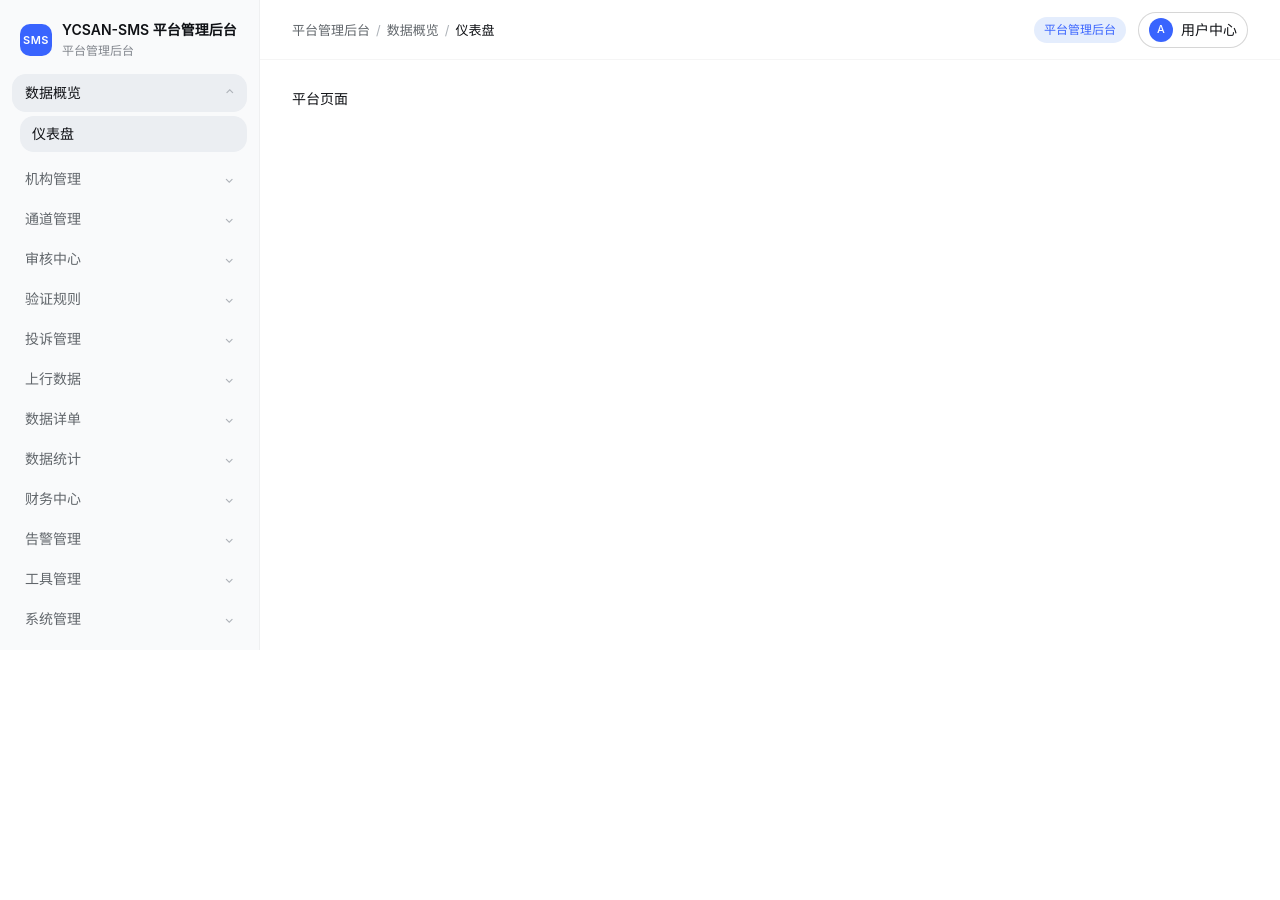
Scenario: AppShell shared console frame (issue #108) › keeps the session commands inside the topbar user center
This screenshot has width=1280, height=900.
Expected: the header with test id "shared-console-identity-user-center-trigger" is shown, [260,0,1279,60]
What coordinates should you click on to do the following:
click the button with test id "shared-console-identity-user-center-trigger"
I would click on:
 (1193, 30)
Its box is [1138,12,1248,48].
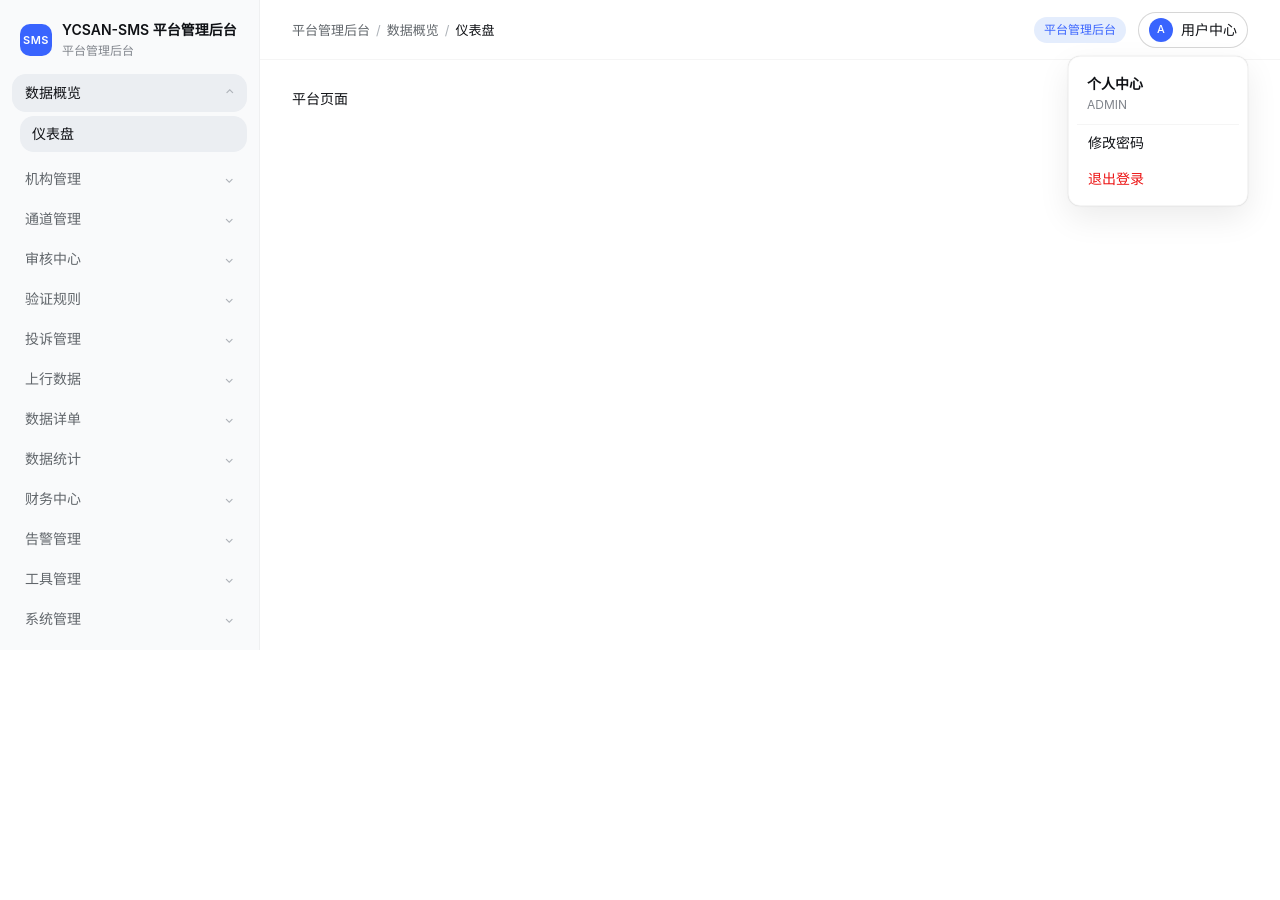
Now the menu with test id "shared-console-identity-user-center-menu" is shown, box [1068,56,1248,206]
Now the menu item with test id "shared-console-identity-profile-password" reads "修改密码", box [1077,124,1155,160]
Now the menu item with test id "shared-console-identity-profile-logout" reads "退出登录", box [1077,160,1155,196]
